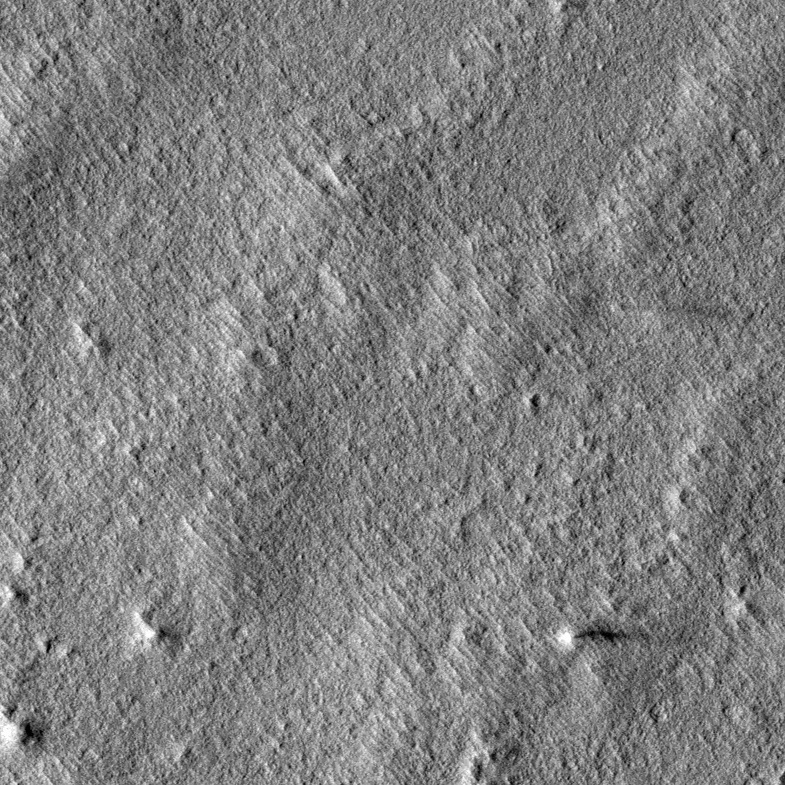dust_devil: (554, 626, 628, 653)
